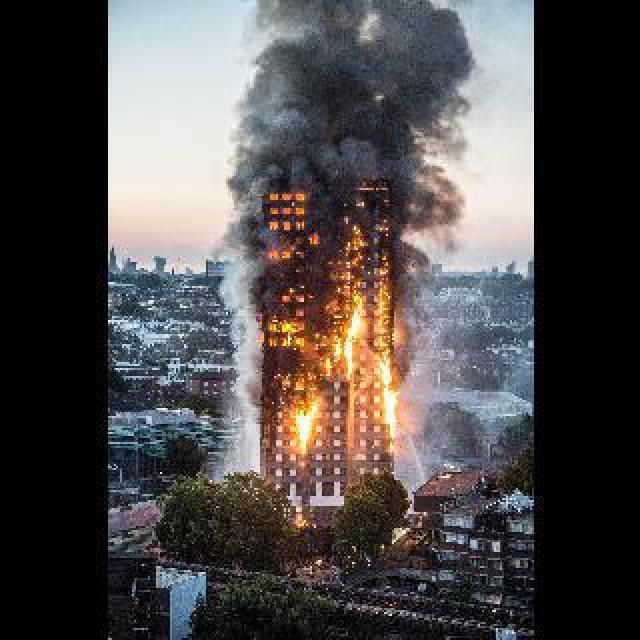fire: (264, 186, 404, 454)
